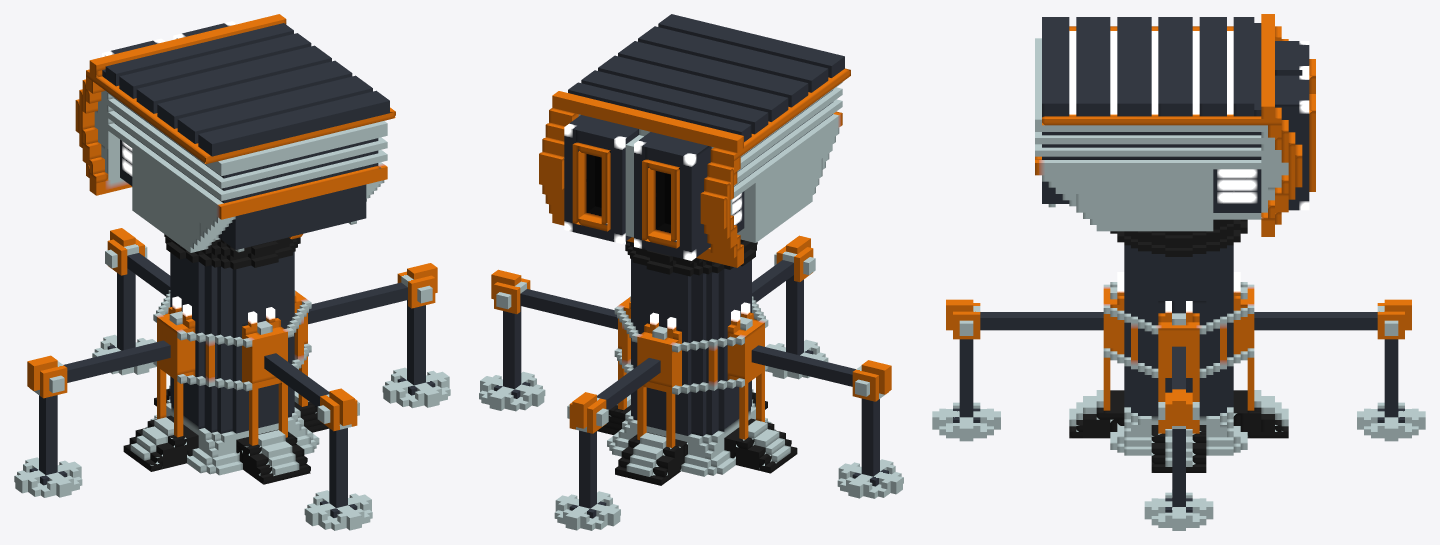
Rendered from Turret.dae.
3 renders of one model, left to right at view 1: azimuth 30°, elevation 25°; view 2: azimuth 150°, elevation 25°; view 3: azimuth 270°, elevation 25°, orthographic. The views are drawn at different scales.
Parts seen in each view (by area): view 1: Head-local, Trunk-local, Leg (3)-local, Leg (1)-local, Leg (2)-local, Leg-local, Connector-local; view 2: Head-local, Trunk-local, Leg (3)-local, Leg (1)-local, Leg-local, Leg (2)-local, Connector-local; view 3: Head-local, Trunk-local, Leg-local, Leg (2)-local, Leg (1)-local, Connector-local.
Part boxes in pixels (bbox=[...]): Head-local: bbox=[75, 14, 395, 252]; Trunk-local: bbox=[123, 251, 329, 484]; Leg (3)-local: bbox=[14, 340, 170, 497]; Leg (1)-local: bbox=[308, 263, 450, 408]; Leg (2)-local: bbox=[264, 353, 372, 530]; Leg-local: bbox=[92, 228, 170, 375]; Connector-local: bbox=[164, 234, 300, 269]; Head-local: bbox=[539, 14, 850, 267]; Trunk-local: bbox=[597, 259, 797, 485]; Leg (3)-local: bbox=[751, 345, 903, 498]; Leg (1)-local: bbox=[479, 269, 617, 411]; Leg-local: bbox=[554, 358, 660, 530]; Leg (2)-local: bbox=[752, 235, 828, 379]; Connector-local: bbox=[625, 159, 757, 276]; Head-local: bbox=[1035, 14, 1315, 236]; Trunk-local: bbox=[1069, 245, 1288, 472]; Leg-local: bbox=[1254, 299, 1425, 441]; Leg (2)-local: bbox=[932, 299, 1103, 441]; Leg (1)-local: bbox=[1144, 346, 1213, 530]; Connector-local: bbox=[1110, 219, 1247, 256].
Bounding box in the file's own units: 72 × 59 × 72.
